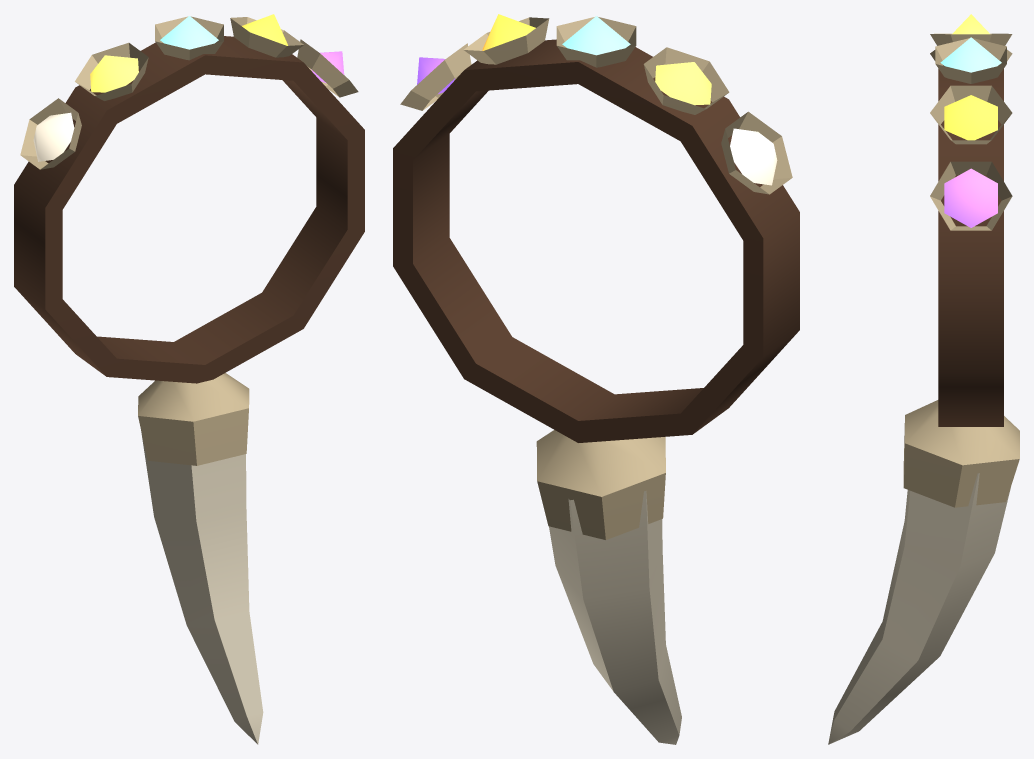
File: tooth-charm-1.glb
3 views of the same model, side by side, from view 1: azimuth 30°, elevation 25°; view 2: azimuth 150°, elevation 25°; view 3: azimuth 270°, elevation 25° (orthographic). The views are drawn at different scales.
Visible parts, largest first — view 1: tooth-charm-1; view 2: tooth-charm-1; view 3: tooth-charm-1.
Part boxes in pixels (x1,y1,x2,y2): tooth-charm-1: [14, 14, 364, 744]; tooth-charm-1: [393, 14, 799, 744]; tooth-charm-1: [828, 14, 1019, 744].
Size of the model in its own units: 0.0734 by 0.1491 by 0.0366.
